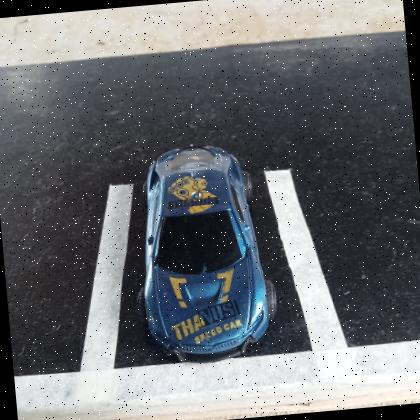Car: (143, 146, 271, 361)
